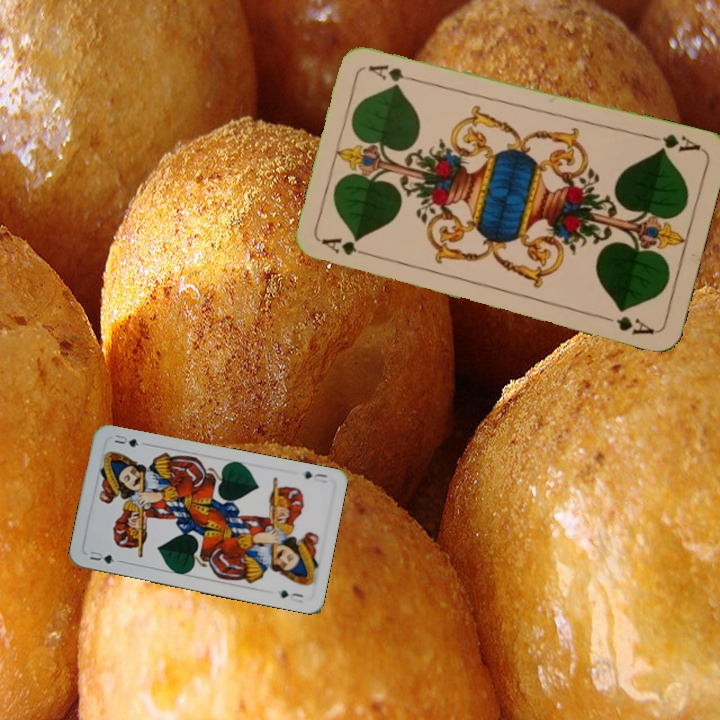GA: (644, 129, 703, 155), (318, 234, 376, 260)
GU: (86, 547, 123, 566), (300, 467, 330, 486)
